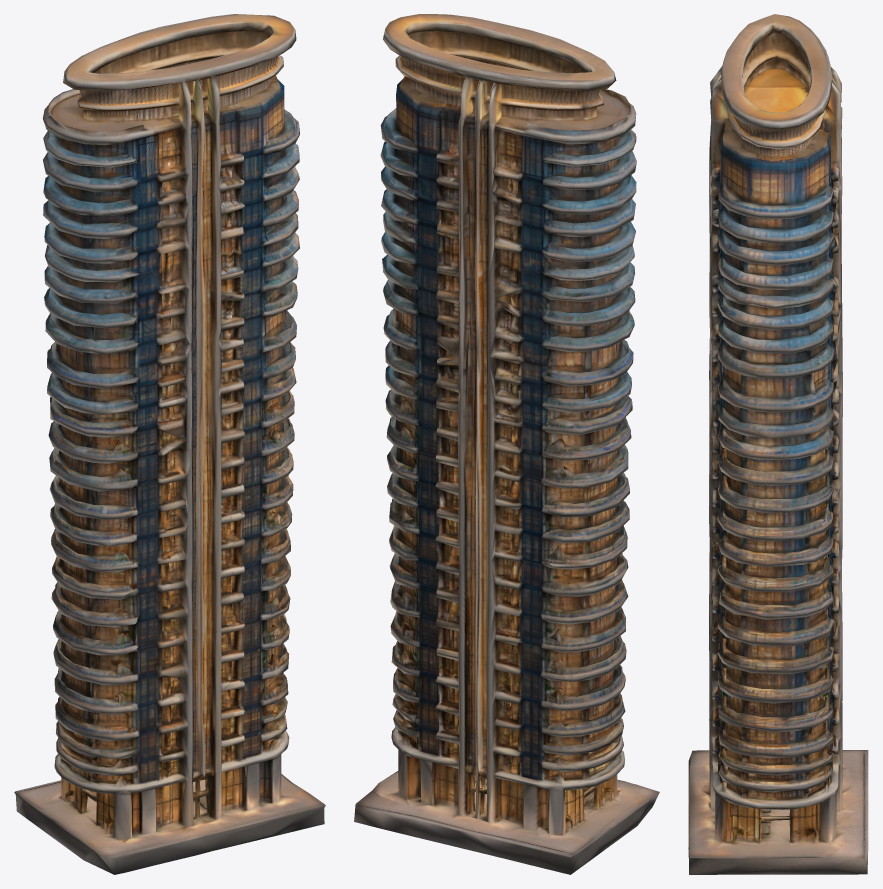
The model's file is marina_tower.glb.
The picture shows the model from 3 angles, left to right: view 1: azimuth 30°, elevation 25°; view 2: azimuth 150°, elevation 25°; view 3: azimuth 270°, elevation 25°; orthographic projection.
Visible parts, largest first — view 1: tripo_node_66f12b41-eb75-4f34-ad4d-5ca1fbfb3dc6; view 2: tripo_node_66f12b41-eb75-4f34-ad4d-5ca1fbfb3dc6; view 3: tripo_node_66f12b41-eb75-4f34-ad4d-5ca1fbfb3dc6.
Part boxes in pixels (bbox=[...]): tripo_node_66f12b41-eb75-4f34-ad4d-5ca1fbfb3dc6: bbox=[14, 14, 325, 874]; tripo_node_66f12b41-eb75-4f34-ad4d-5ca1fbfb3dc6: bbox=[354, 14, 659, 874]; tripo_node_66f12b41-eb75-4f34-ad4d-5ca1fbfb3dc6: bbox=[688, 14, 868, 874].
Size of the model in its own units: 0.329 by 1 by 0.215.
Materials: 1 (1 with a texture image).
